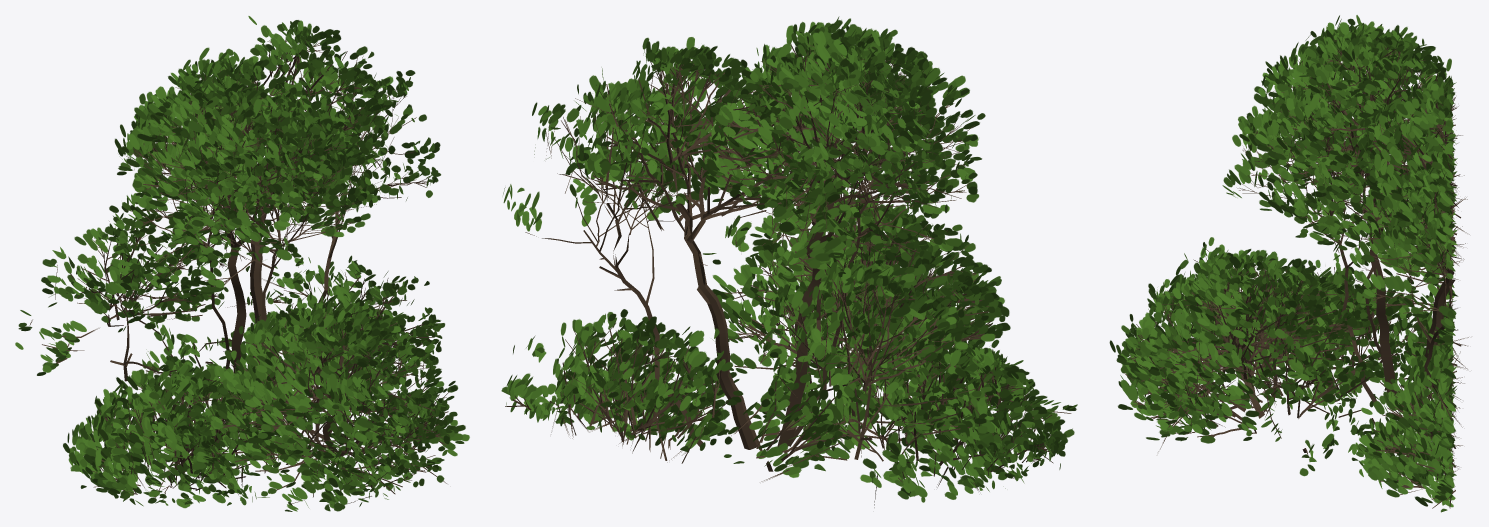
3 renders of one model, left to right at view 1: azimuth 30°, elevation 25°; view 2: azimuth 150°, elevation 25°; view 3: azimuth 270°, elevation 25°, orthographic. The views are drawn at different scales.
Visible parts, largest first — view 1: oak 01.001_trunk_Mat.001_0.195; view 2: oak 01.001_trunk_Mat.001_0.195; view 3: oak 01.001_trunk_Mat.001_0.195.
Boxes of the visible parts, x1,y1,x2,y2 form: oak 01.001_trunk_Mat.001_0.195: (15,16,469,511); oak 01.001_trunk_Mat.001_0.195: (501,16,1077,507); oak 01.001_trunk_Mat.001_0.195: (1109,15,1469,512).
Bounding box in the file's own units: 5.33 × 4.6 × 3.97.
Materials: 2 (1 with a texture image).
